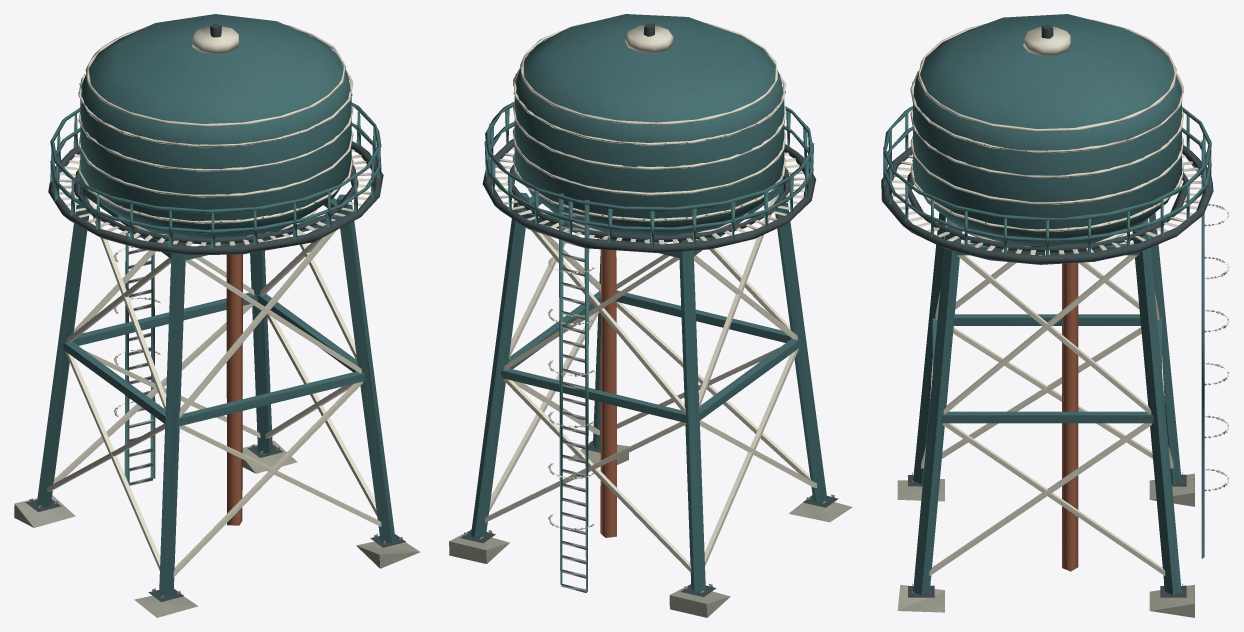
3 views of the same model, side by side, from view 1: azimuth 30°, elevation 25°; view 2: azimuth 150°, elevation 25°; view 3: azimuth 270°, elevation 25° (orthographic). The views are drawn at different scales.
Visible parts, largest first — view 1: static_assembly_steel_001, static_assembly_ivory_001, static_assembly_dark_001, static_assembly_rust_001, static_assembly_concrete_001, static_assembly_bolt_001, hatch_lid; view 2: static_assembly_steel_001, static_assembly_ivory_001, static_assembly_dark_001, static_assembly_rust_001, static_assembly_concrete_001, static_assembly_bolt_001, hatch_lid; view 3: static_assembly_steel_001, static_assembly_ivory_001, static_assembly_dark_001, static_assembly_rust_001, static_assembly_concrete_001, hatch_lid.
Part boxes in pixels (bbox=[...]): static_assembly_steel_001: bbox=[36, 14, 395, 597]; static_assembly_ivory_001: bbox=[47, 24, 381, 577]; static_assembly_dark_001: bbox=[25, 141, 405, 601]; static_assembly_rust_001: bbox=[226, 254, 242, 525]; static_assembly_concrete_001: bbox=[14, 440, 420, 617]; static_assembly_bolt_001: bbox=[29, 74, 402, 597]; hatch_lid: bbox=[192, 26, 239, 54]; static_assembly_steel_001: bbox=[471, 14, 827, 592]; static_assembly_ivory_001: bbox=[485, 21, 816, 572]; static_assembly_dark_001: bbox=[460, 138, 838, 596]; static_assembly_rust_001: bbox=[600, 249, 616, 537]; static_assembly_concrete_001: bbox=[449, 442, 852, 617]; static_assembly_bolt_001: bbox=[464, 74, 834, 593]; hatch_lid: bbox=[625, 25, 673, 52]; static_assembly_steel_001: bbox=[883, 14, 1211, 595]; static_assembly_ivory_001: bbox=[892, 19, 1229, 575]; static_assembly_dark_001: bbox=[881, 145, 1213, 597]; static_assembly_rust_001: bbox=[1062, 263, 1078, 571]; static_assembly_concrete_001: bbox=[897, 473, 1194, 617]; hatch_lid: bbox=[1023, 26, 1071, 55].
Size of the model in its own units: 6 by 10 by 6.
6 materials, 2 textured.
